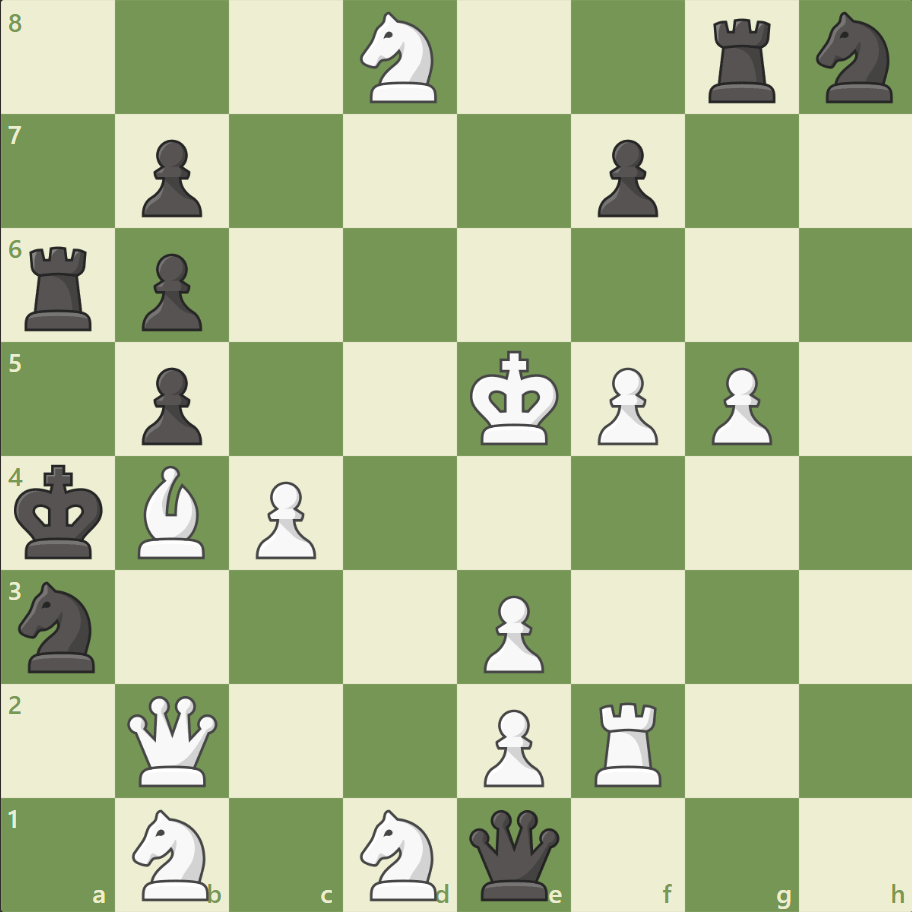B: (131, 460, 215, 563)
K: (465, 344, 565, 452)
N: (351, 7, 449, 110), (124, 802, 222, 904), (351, 802, 449, 904)
P: (701, 359, 776, 450), (247, 473, 322, 564), (474, 586, 549, 677), (474, 700, 549, 791), (588, 359, 662, 450)
Q: (124, 690, 223, 789)
R: (587, 693, 670, 790)
k: (11, 458, 111, 566)
n: (806, 7, 903, 110), (11, 575, 108, 677)
p: (133, 132, 208, 223), (133, 246, 208, 337), (133, 359, 208, 450), (588, 132, 662, 223)
q: (464, 804, 563, 903)
r: (700, 12, 783, 109), (19, 239, 102, 336)
